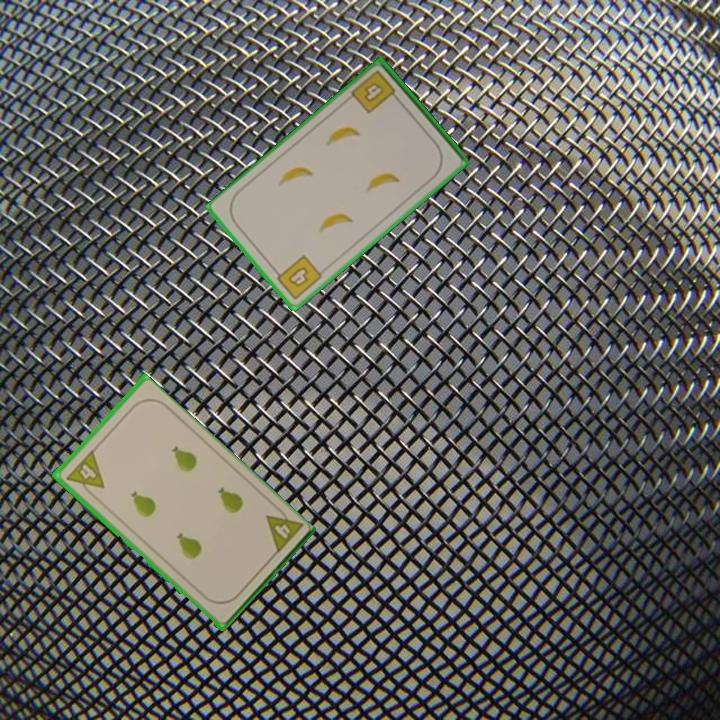4b: (270, 252, 325, 303), (347, 67, 402, 117)
4p: (261, 502, 305, 557), (62, 447, 107, 500)
